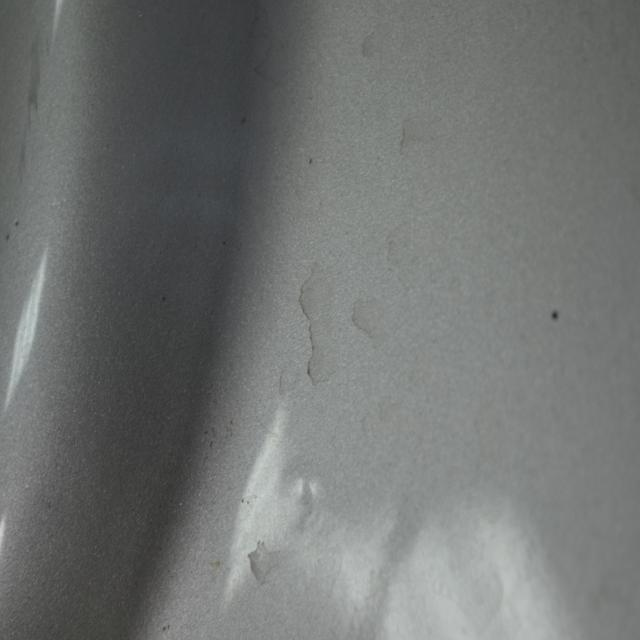dirt: (550, 305, 561, 322), (238, 112, 248, 127), (4, 230, 11, 242), (307, 154, 315, 164), (14, 219, 22, 227)
water marks: (294, 258, 349, 391), (18, 22, 43, 181), (398, 108, 451, 170), (348, 291, 396, 355), (254, 29, 297, 97), (246, 534, 289, 595), (357, 19, 400, 73)
